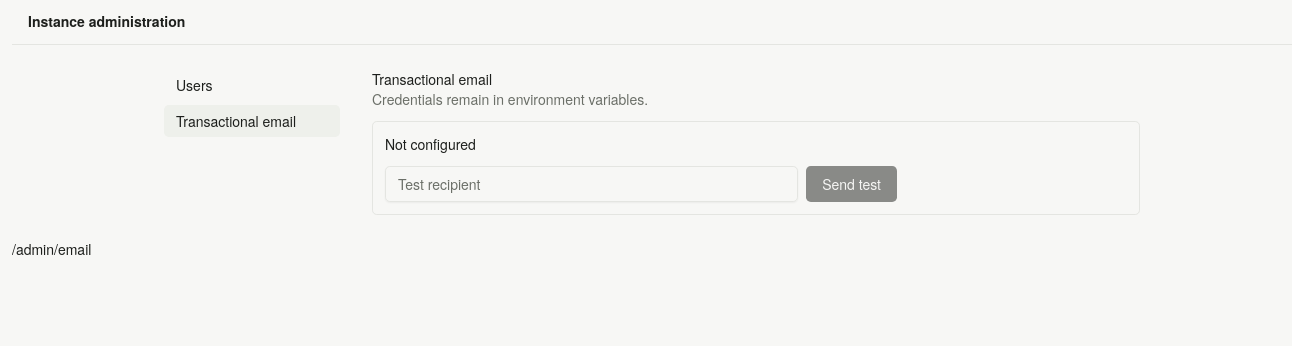
Test: leaves the current area behind when another is picked
The image size is (1292, 346).
Click the link "Users" at (194, 85), box [176,75,213,95]
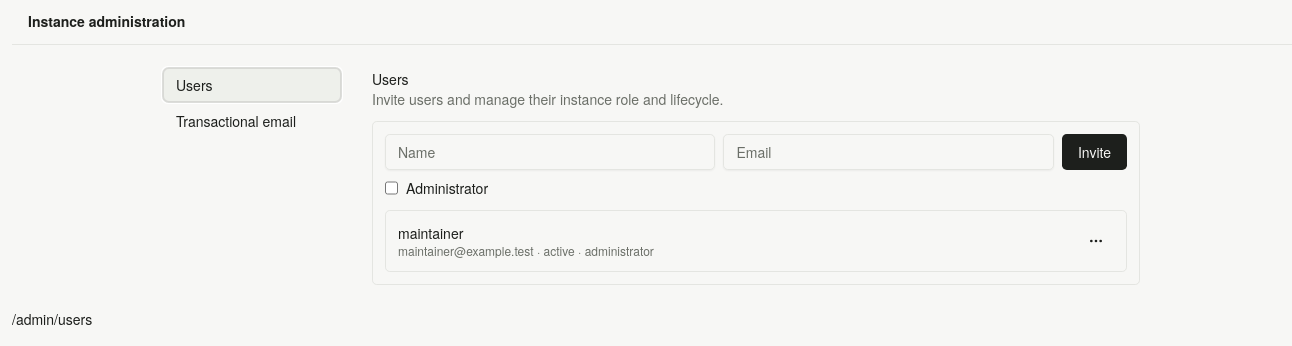
Expected: the text with test id "at" reads "/admin/users", [12,309,92,329]
Expected: the heading "Users" is shown, [372,69,409,89]
